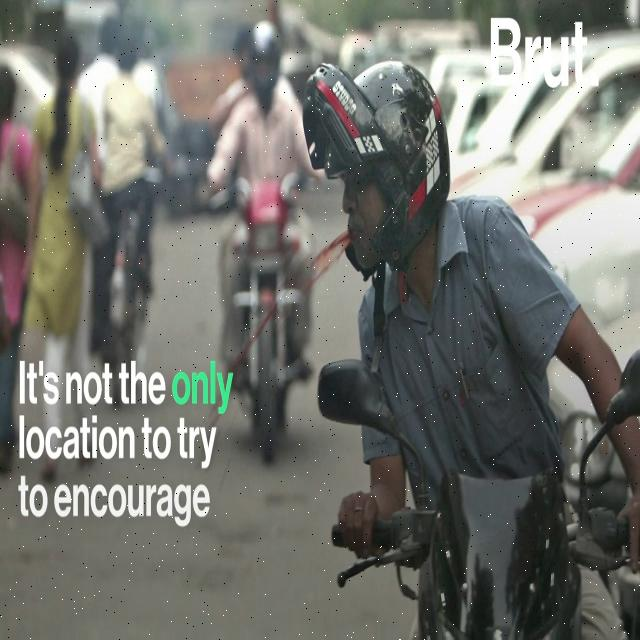spit: (222, 153, 388, 411)
